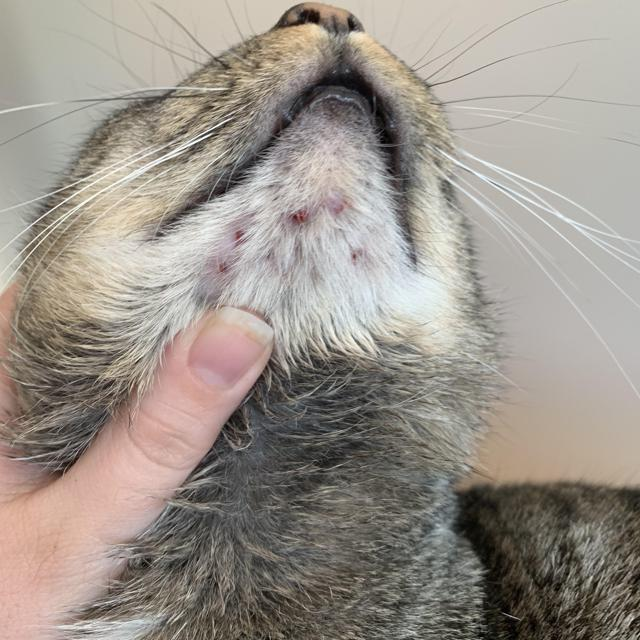acne: (220, 193, 378, 303)
